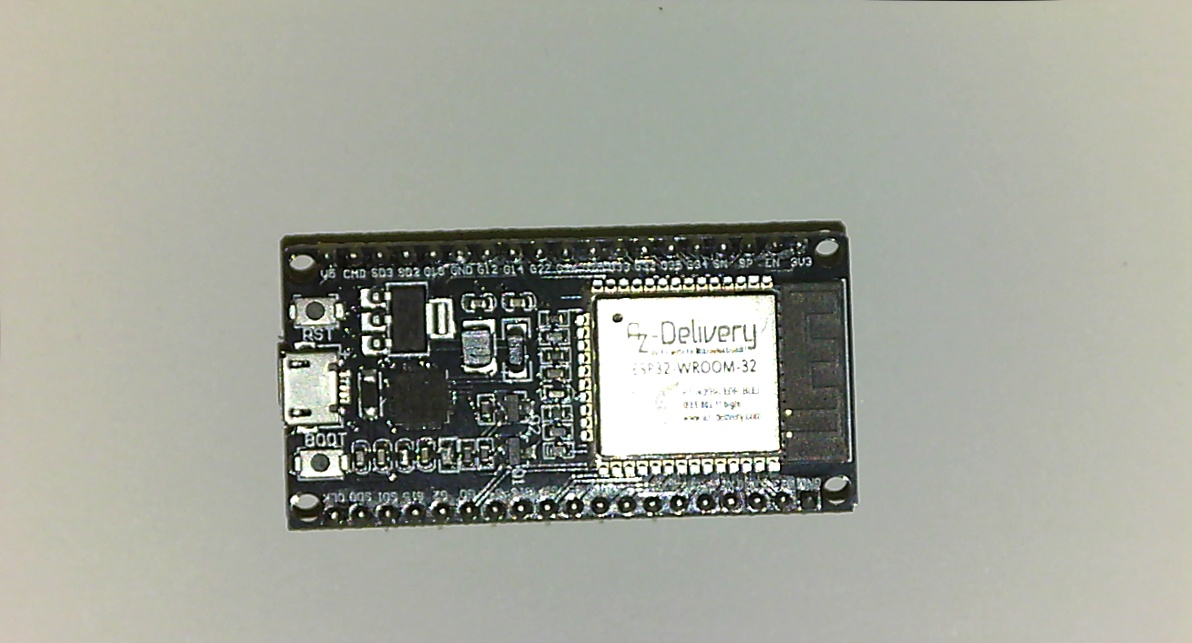esp32: (265, 235, 878, 531)
